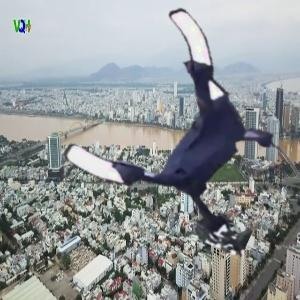drone: (86, 20, 294, 228)
